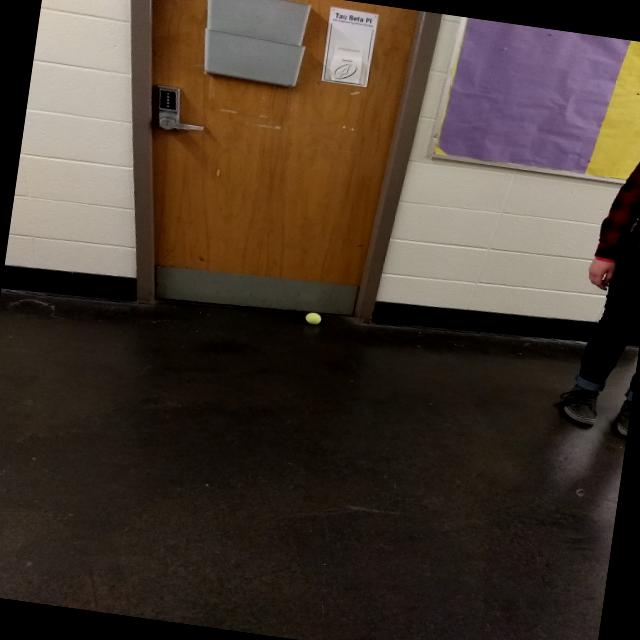Tennis Ball: (305, 312, 322, 324)
